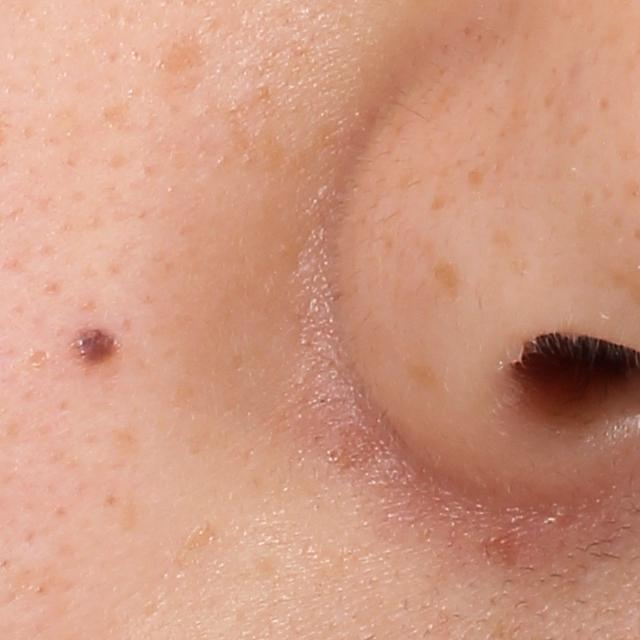melasma: (160, 37, 203, 82)
